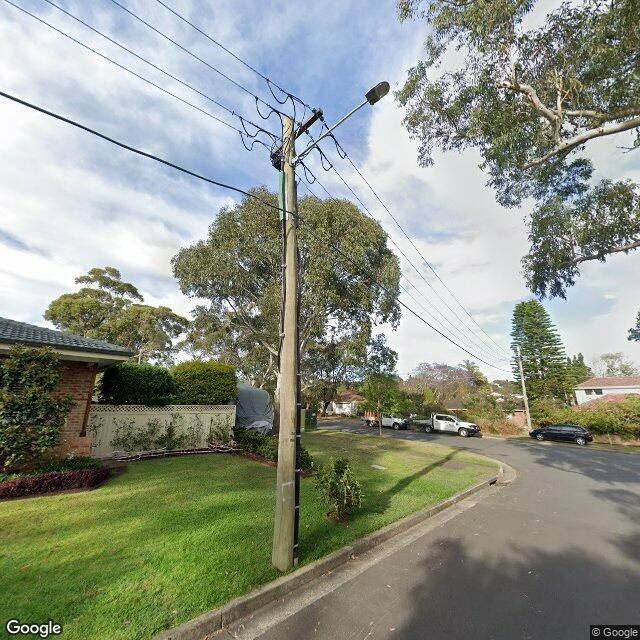crossarm: (269, 108, 323, 163)
streetlight: (294, 81, 390, 167)
timber-pole: (274, 115, 298, 571), (516, 346, 532, 430)
